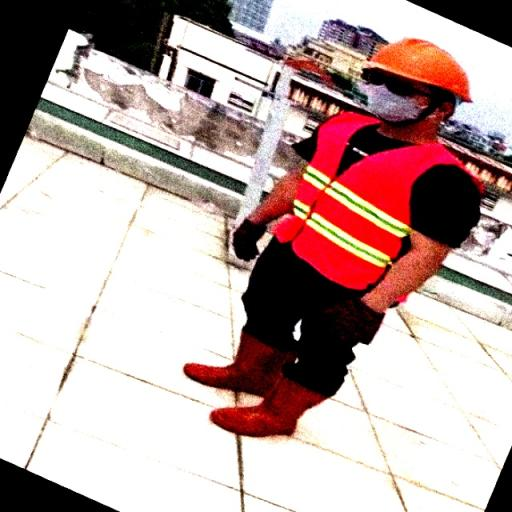Person: (196, 20, 503, 500)
boots: (209, 375, 332, 437), (177, 336, 297, 391)
gloves: (333, 296, 390, 346), (226, 215, 272, 264)
goggles: (350, 66, 433, 104)
helmet: (368, 36, 478, 102)
vest: (279, 115, 491, 308)
